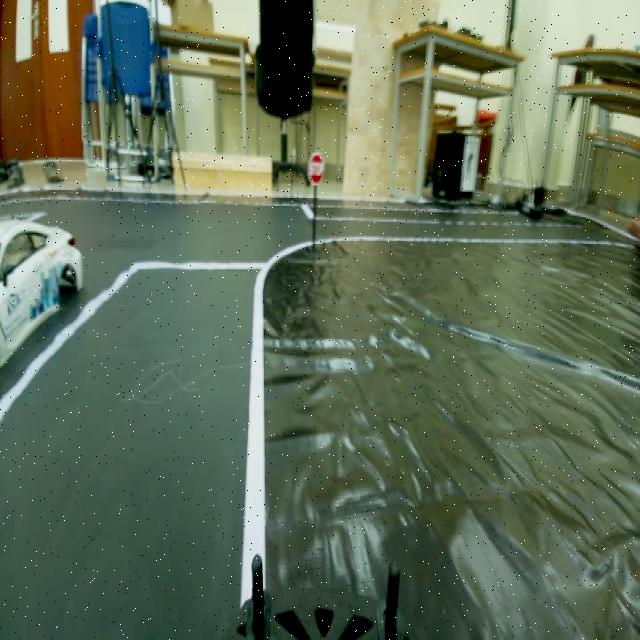stop: (303, 145, 329, 186)
